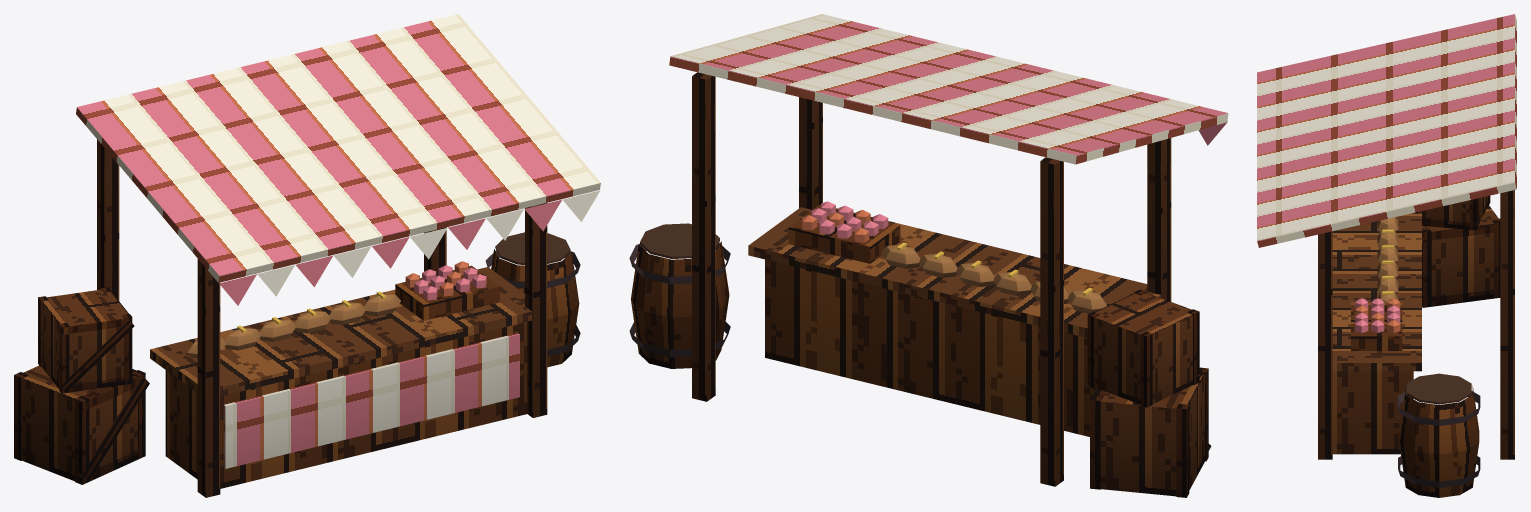
The model's file is market_stall.glb.
3 renders of one model, left to right at view 1: azimuth 30°, elevation 25°; view 2: azimuth 150°, elevation 25°; view 3: azimuth 270°, elevation 25°, orthographic. The views are drawn at different scales.
Parts seen in each view (by area): view 1: market_stall; view 2: market_stall; view 3: market_stall.
Boxes of the visible parts, left/top/right/bottom form: market_stall: left=14, top=14, right=600, bottom=497; market_stall: left=629, top=14, right=1228, bottom=497; market_stall: left=1257, top=14, right=1516, bottom=497.
Size of the model in its own units: 4.94 by 2.77 by 2.28.
Materials: 3 (2 with a texture image).
